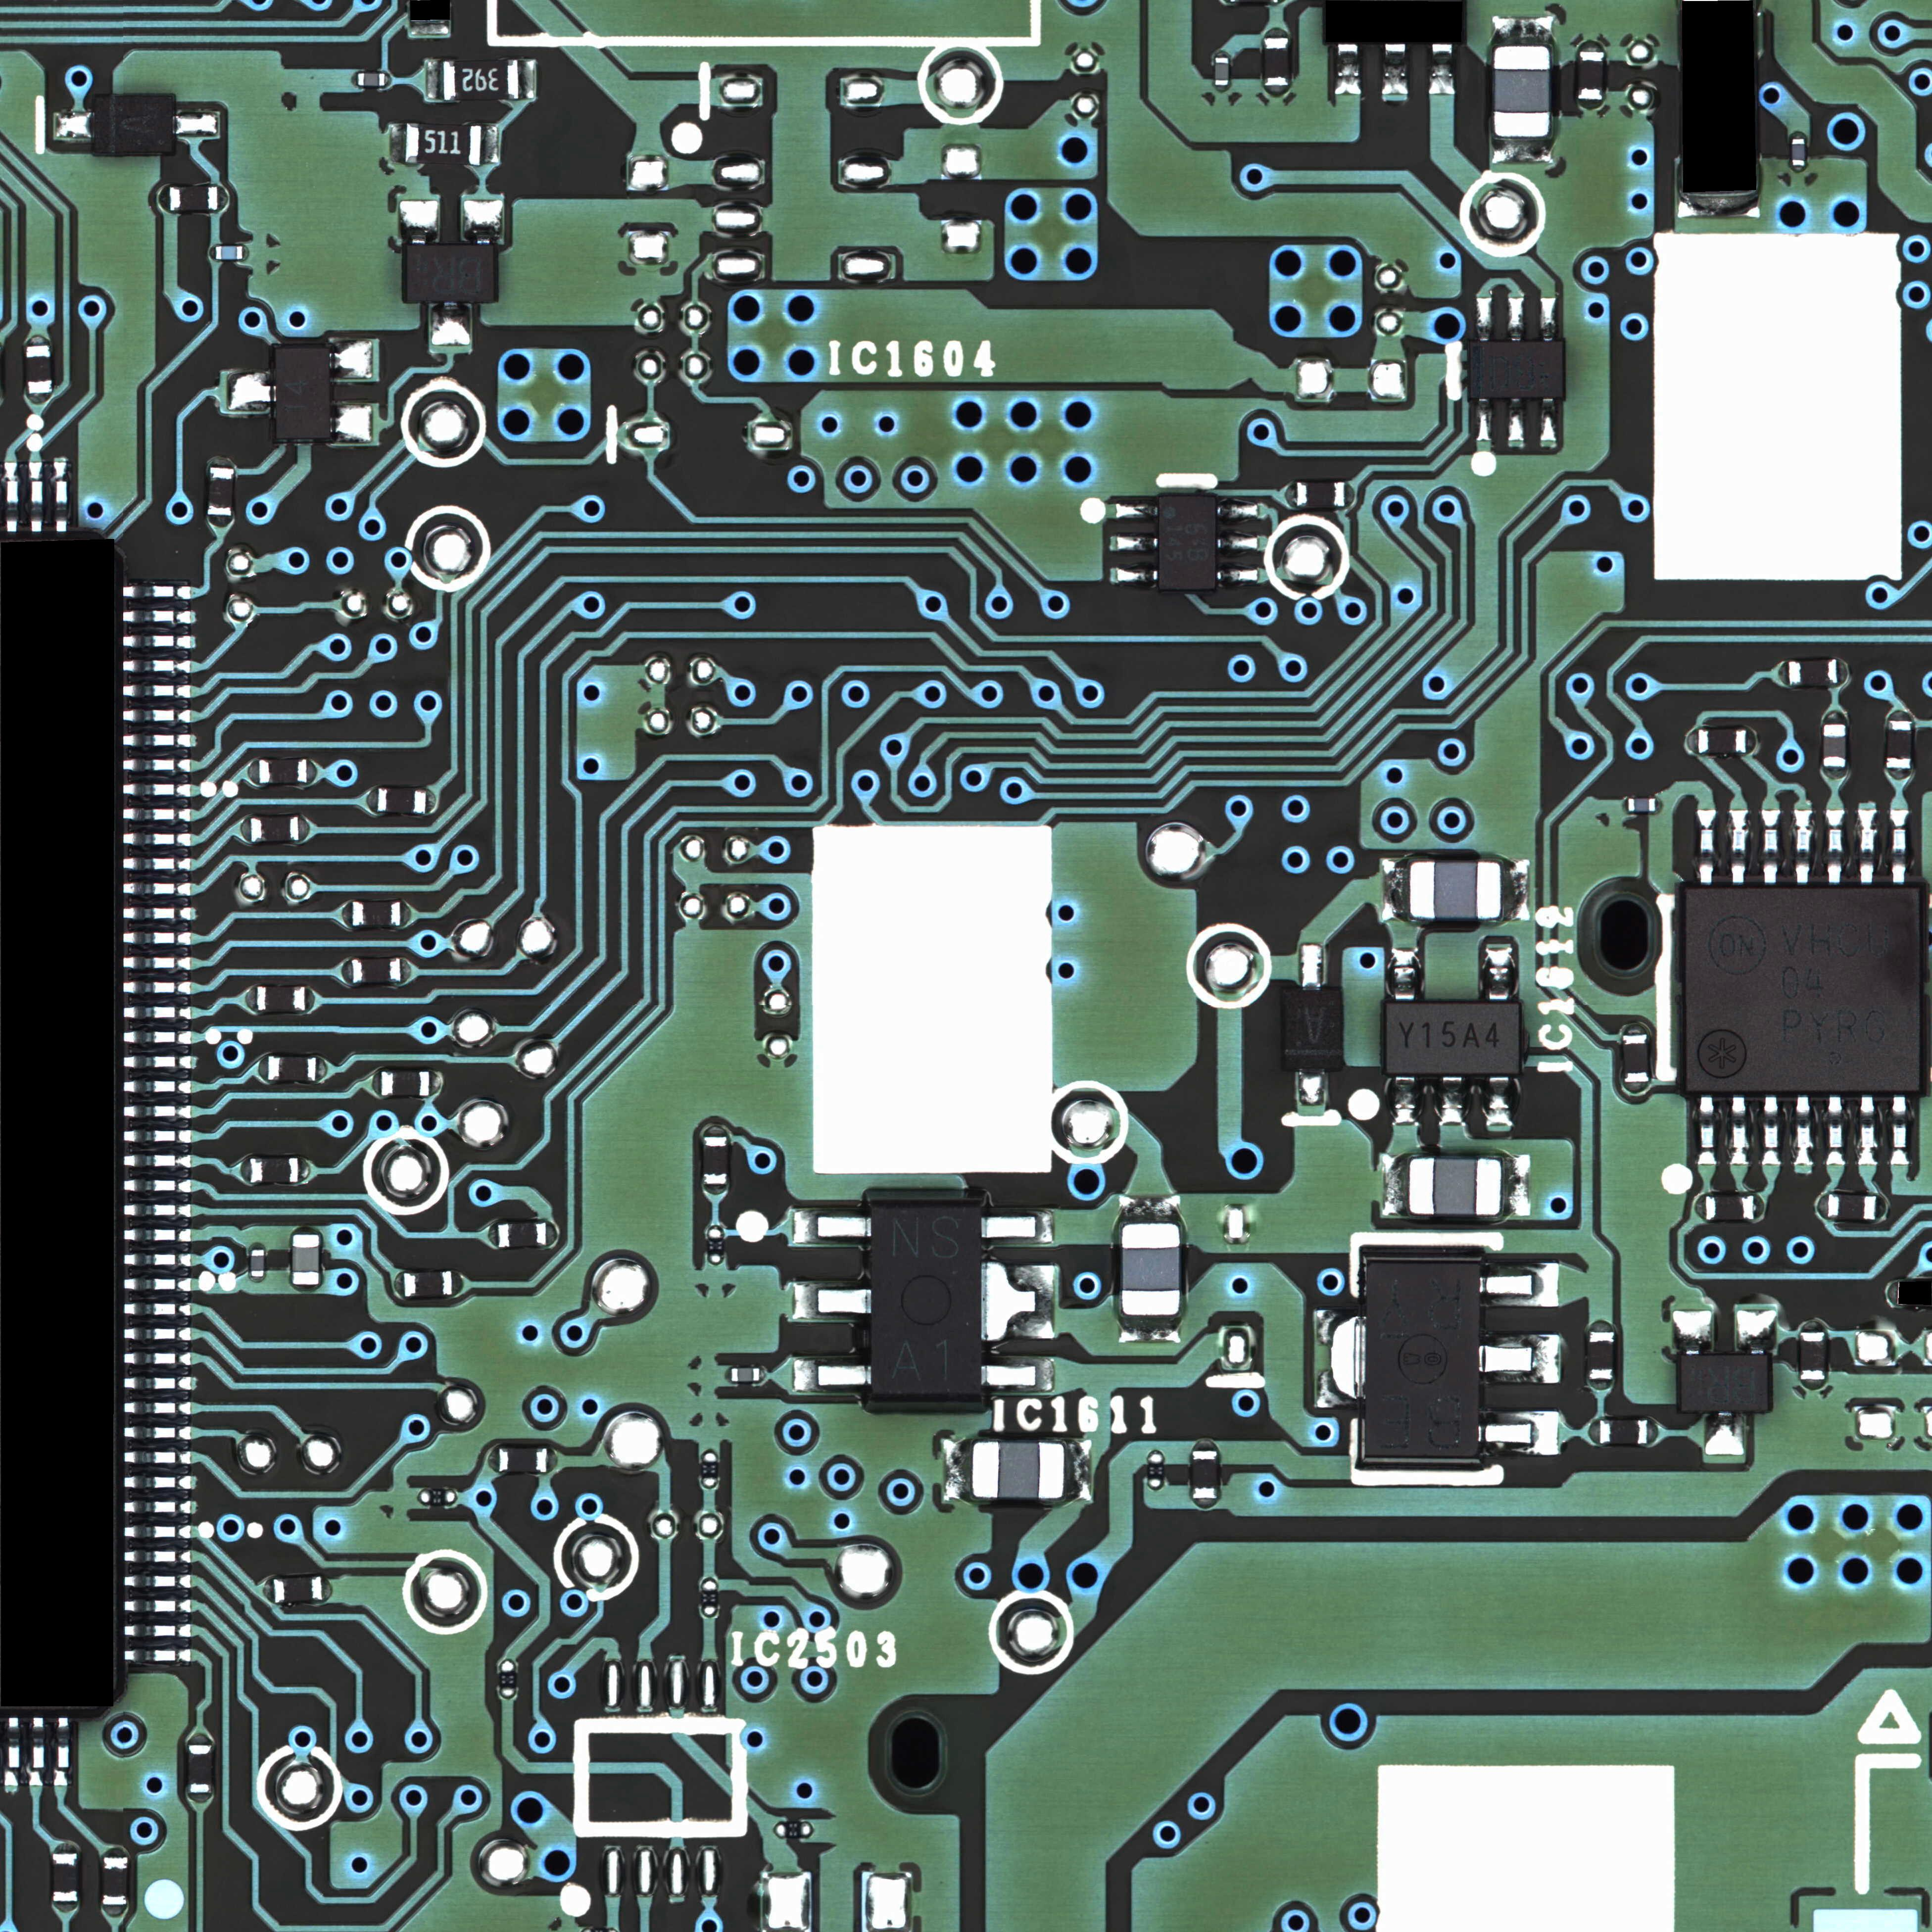Package: (1688, 885, 1921, 1095), (1366, 1261, 1479, 1458), (870, 1207, 982, 1396), (1385, 1003, 1520, 1076), (1122, 1223, 1180, 1316), (1468, 341, 1562, 398), (1159, 495, 1215, 589), (1410, 1157, 1500, 1215), (973, 1442, 1065, 1499), (1493, 46, 1550, 136), (1410, 862, 1500, 918), (1679, 1355, 1769, 1412), (407, 246, 495, 303), (276, 349, 331, 439), (96, 97, 172, 154), (1284, 991, 1338, 1069), (407, 122, 481, 165), (444, 62, 518, 99), (292, 1235, 320, 1284), (1578, 51, 1605, 101), (27, 345, 53, 393), (207, 467, 234, 515), (251, 816, 299, 842), (352, 957, 400, 984), (269, 1054, 317, 1081), (274, 1576, 322, 1603), (1828, 1192, 1875, 1219), (1799, 1332, 1826, 1380), (1599, 1419, 1647, 1445), (403, 1272, 453, 1297), (1789, 660, 1838, 685), (170, 186, 218, 211), (377, 787, 425, 812), (257, 985, 304, 1010), (249, 1157, 297, 1182), (499, 1447, 547, 1472), (103, 1858, 127, 1905), (1265, 39, 1290, 87), (1297, 481, 1345, 506), (1886, 720, 1911, 768), (354, 901, 400, 925), (382, 1072, 428, 1097), (499, 1223, 545, 1247), (1624, 1035, 1649, 1081), (1706, 1196, 1755, 1219), (1589, 1332, 1614, 1378), (53, 1852, 76, 1900), (1192, 1451, 1215, 1499), (1698, 731, 1746, 754), (260, 761, 306, 784), (704, 1138, 727, 1184), (189, 1746, 211, 1792), (1824, 724, 1845, 768), (357, 73, 386, 87), (731, 1368, 759, 1382), (1215, 57, 1230, 85), (216, 246, 242, 260), (1628, 798, 1654, 812), (251, 1249, 264, 1276), (1792, 138, 1805, 165)
Solder: (982, 1261, 1054, 1339), (1316, 1311, 1366, 1407), (1479, 1334, 1560, 1384), (1479, 1261, 1560, 1307), (1479, 1410, 1560, 1456), (793, 1283, 870, 1322), (793, 1210, 870, 1244), (793, 1359, 870, 1392), (982, 1355, 1054, 1391), (982, 1210, 1053, 1244), (1677, 191, 1760, 219), (228, 370, 276, 412), (1854, 809, 1879, 885), (1493, 16, 1555, 46), (1693, 809, 1718, 883), (1757, 809, 1782, 883), (1790, 809, 1815, 883), (1500, 860, 1530, 920), (331, 336, 373, 379), (943, 1438, 971, 1502), (1736, 1309, 1776, 1353), (1502, 1154, 1530, 1215), (1118, 1316, 1180, 1345), (1824, 809, 1847, 885), (1888, 809, 1911, 885), (400, 202, 441, 244), (331, 403, 373, 444), (464, 200, 502, 244), (1706, 1412, 1744, 1456), (1120, 1194, 1180, 1223), (1491, 136, 1555, 163), (1382, 858, 1408, 922), (1382, 1154, 1408, 1217), (1727, 810, 1750, 883), (432, 303, 471, 345), (1674, 1311, 1713, 1353), (1792, 1095, 1815, 1166), (1695, 1095, 1718, 1166), (1727, 1095, 1750, 1166), (1760, 1095, 1783, 1166), (1065, 1440, 1092, 1500), (1888, 1097, 1911, 1166), (1856, 1097, 1879, 1166), (1824, 1097, 1847, 1166), (1484, 947, 1513, 1001), (1391, 947, 1419, 1001), (1334, 44, 1362, 96), (1382, 44, 1408, 96), (1430, 44, 1456, 96), (51, 462, 71, 531), (1486, 1077, 1513, 1127), (1438, 1077, 1465, 1125), (4, 462, 21, 531), (28, 462, 46, 531), (1299, 943, 1323, 991), (1394, 1077, 1417, 1125), (4, 1718, 19, 1787), (53, 1716, 69, 1785), (28, 1718, 44, 1785), (124, 1649, 191, 1665), (124, 1575, 191, 1591), (124, 1599, 191, 1615), (124, 1523, 191, 1539), (124, 1550, 191, 1566), (124, 1325, 191, 1341), (124, 1350, 191, 1366), (124, 1375, 191, 1391), (124, 1399, 191, 1415), (124, 1424, 191, 1440), (124, 1449, 191, 1465), (124, 1077, 191, 1093), (124, 1100, 191, 1116), (124, 1127, 191, 1143), (124, 1152, 191, 1168), (124, 1177, 191, 1192), (124, 1201, 191, 1217), (124, 1226, 191, 1242), (124, 1251, 191, 1267), (124, 807, 191, 823), (124, 830, 191, 846), (124, 856, 191, 872), (124, 881, 191, 897), (124, 906, 191, 922), (124, 931, 191, 947), (124, 980, 191, 996), (124, 1003, 191, 1019), (124, 1030, 191, 1046), (122, 607, 189, 623), (1297, 1069, 1325, 1106), (124, 1474, 189, 1490), (124, 1500, 189, 1516), (124, 1276, 189, 1292), (124, 1300, 189, 1316), (124, 780, 189, 796), (126, 955, 191, 971), (124, 633, 189, 649), (124, 656, 189, 672), (124, 683, 189, 699), (124, 708, 189, 724), (124, 732, 189, 748), (124, 586, 189, 602), (173, 113, 218, 136), (55, 113, 94, 138), (124, 1624, 191, 1638), (124, 1053, 191, 1067), (124, 757, 191, 771), (1539, 297, 1559, 341), (1506, 400, 1525, 442), (1476, 297, 1493, 341), (481, 124, 499, 166), (1507, 299, 1525, 341), (1539, 400, 1557, 442), (426, 60, 444, 101), (518, 60, 536, 101), (1217, 534, 1258, 552), (1116, 566, 1157, 584), (1118, 534, 1157, 552), (1477, 400, 1493, 441), (1217, 502, 1258, 518), (1217, 568, 1258, 584), (409, 21, 449, 37), (391, 124, 405, 166), (1115, 504, 1157, 518), (1589, 1318, 1614, 1332), (207, 515, 234, 527), (402, 957, 414, 984), (317, 1054, 329, 1081), (1263, 87, 1290, 99), (209, 455, 234, 467), (340, 901, 352, 925), (430, 1072, 442, 1097), (547, 1223, 559, 1247), (1192, 1499, 1217, 1511), (244, 987, 257, 1010), (547, 1449, 559, 1472), (188, 1732, 211, 1744), (704, 1184, 727, 1196), (1284, 481, 1297, 504), (1192, 1438, 1215, 1451), (1824, 768, 1847, 780), (1884, 1281, 1897, 1304), (27, 395, 53, 405), (426, 787, 437, 814), (488, 1447, 499, 1474), (322, 1576, 333, 1603), (262, 1576, 272, 1603), (1578, 41, 1605, 51), (1649, 1419, 1660, 1445), (1817, 1192, 1828, 1219), (1622, 1023, 1649, 1033), (218, 186, 228, 211), (157, 186, 168, 211), (27, 334, 51, 345), (248, 759, 258, 784), (366, 787, 377, 812), (239, 816, 249, 840), (402, 901, 412, 925), (299, 1157, 310, 1182), (453, 1270, 464, 1295), (103, 1907, 127, 1918), (53, 1840, 78, 1851), (53, 1902, 78, 1913), (1589, 1380, 1614, 1391), (1589, 1419, 1599, 1444), (1801, 1380, 1826, 1391), (1755, 1194, 1766, 1219), (1888, 770, 1913, 780), (1824, 709, 1845, 722), (1686, 727, 1697, 752), (1838, 660, 1849, 685), (1624, 1083, 1649, 1093), (292, 1284, 320, 1293), (189, 1794, 212, 1805), (103, 1845, 126, 1856), (1265, 27, 1288, 37), (1801, 1322, 1824, 1332), (1888, 709, 1911, 720), (306, 985, 315, 1012), (258, 1054, 267, 1081), (372, 1070, 380, 1097), (241, 1157, 249, 1184), (395, 1272, 403, 1299), (1877, 1194, 1886, 1221), (308, 759, 317, 784), (301, 817, 310, 842), (341, 957, 350, 982), (488, 1223, 497, 1247), (1580, 101, 1605, 110), (1748, 729, 1757, 754), (706, 1125, 725, 1136), (1346, 483, 1355, 506), (1695, 1196, 1704, 1219), (1780, 660, 1789, 683), (292, 1226, 320, 1233), (1654, 796, 1663, 814), (1790, 166, 1808, 173), (209, 244, 216, 260), (249, 1242, 265, 1249), (1214, 87, 1230, 94), (1790, 131, 1806, 138), (251, 1276, 265, 1283), (1622, 796, 1628, 814), (350, 74, 357, 87), (244, 244, 249, 260), (386, 73, 391, 87), (725, 1368, 731, 1382), (1214, 50, 1228, 55), (761, 1369, 766, 1382)
